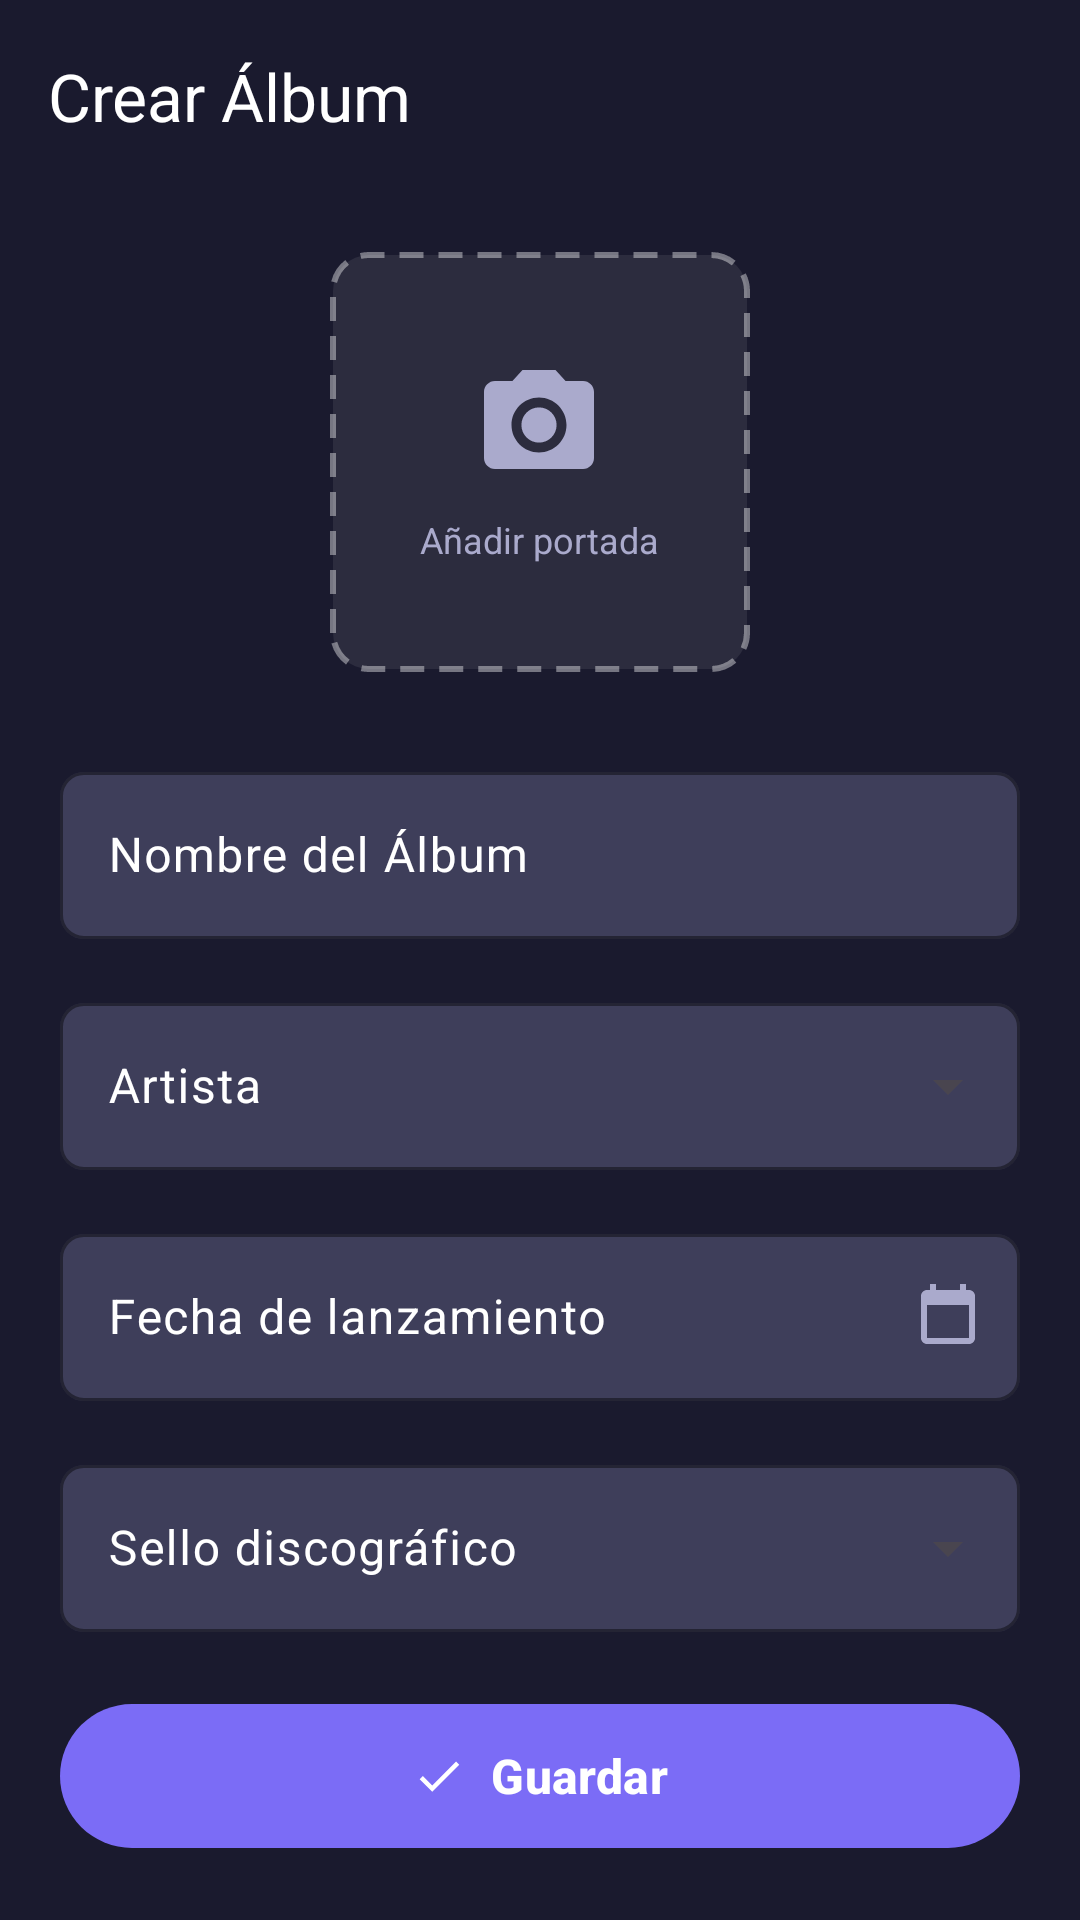

Icons on this 1080w x 1920h Android screen, each with the point to tap as point (x, y):
camera: point (539, 419)
